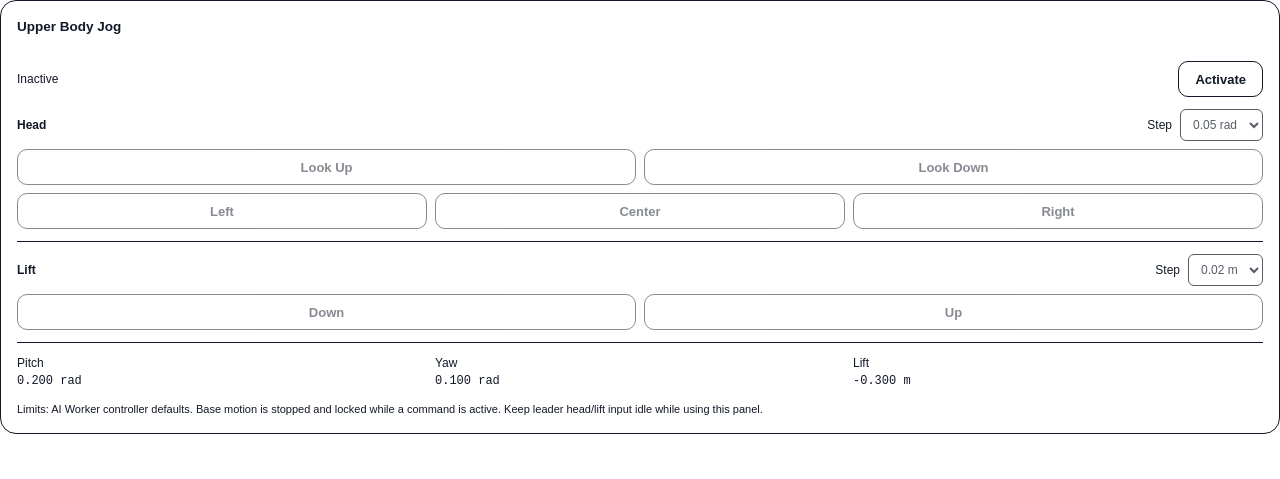
Test: stop publish failure does not send a joint command
Click the button "Activate": (1221, 79) [1178,61,1263,97]
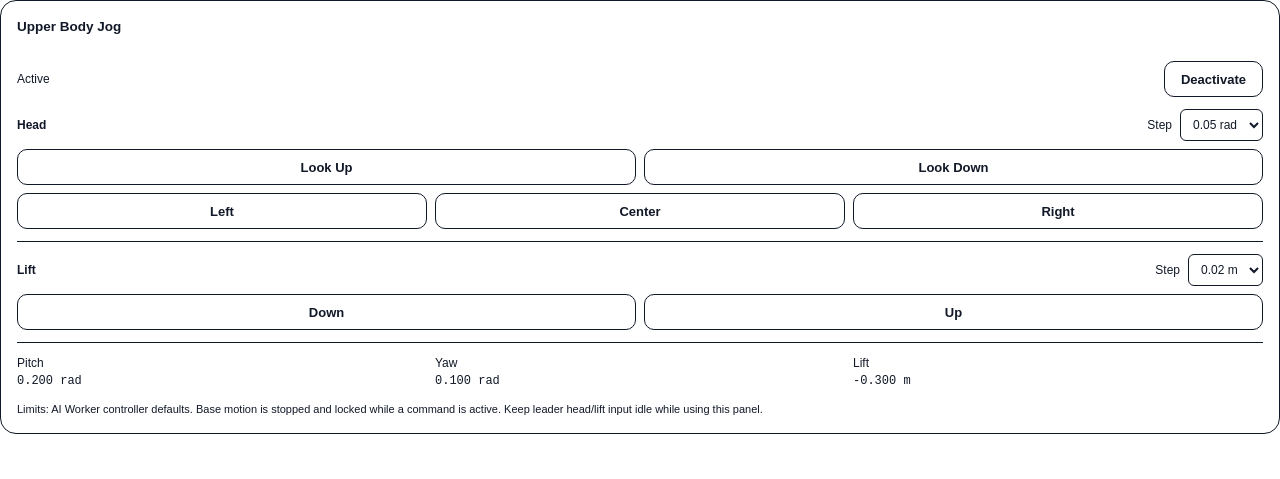
Click the button "Look Up": (326, 167) [17,149,636,185]
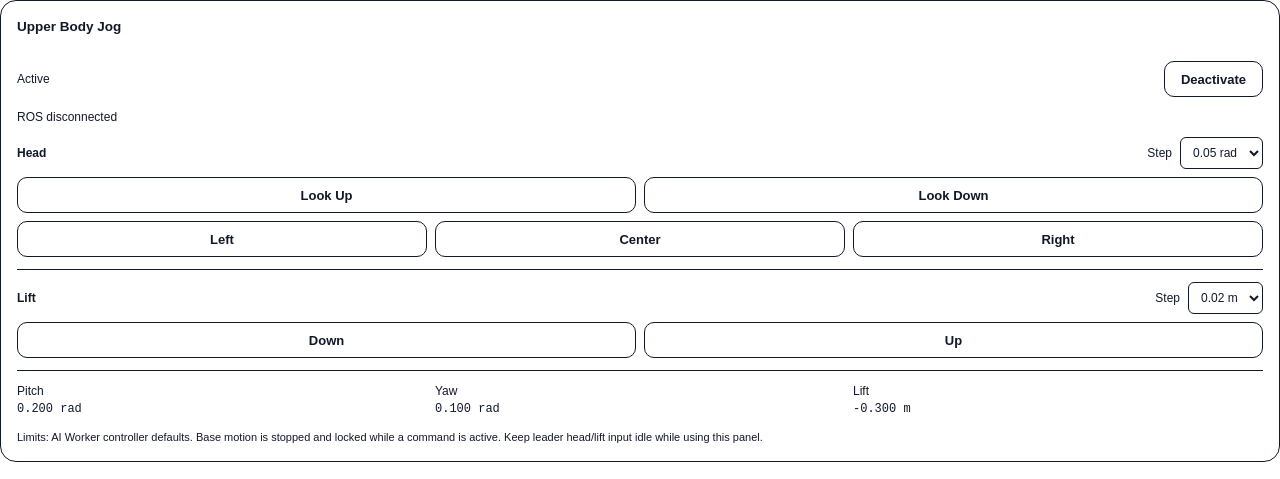
Check: the message reads "ROS disconnected", box [17,110,117,124]
